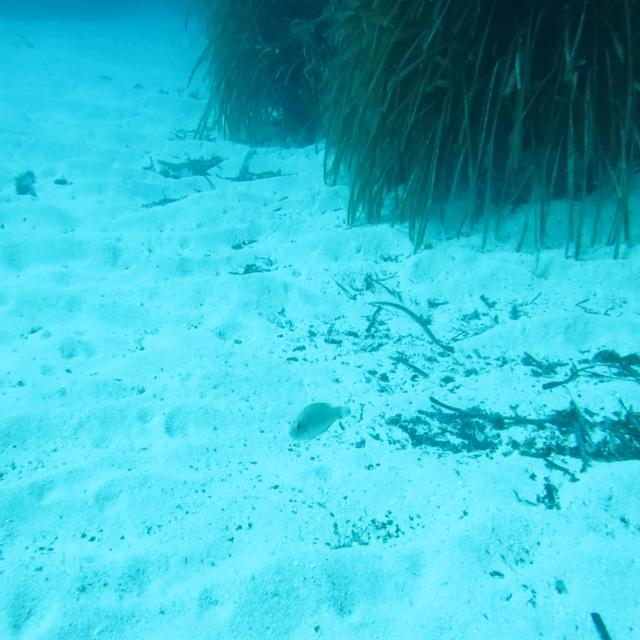BN: (286, 399, 358, 451)
vegetation: (286, 0, 639, 224), (404, 402, 640, 472), (203, 0, 287, 147)
